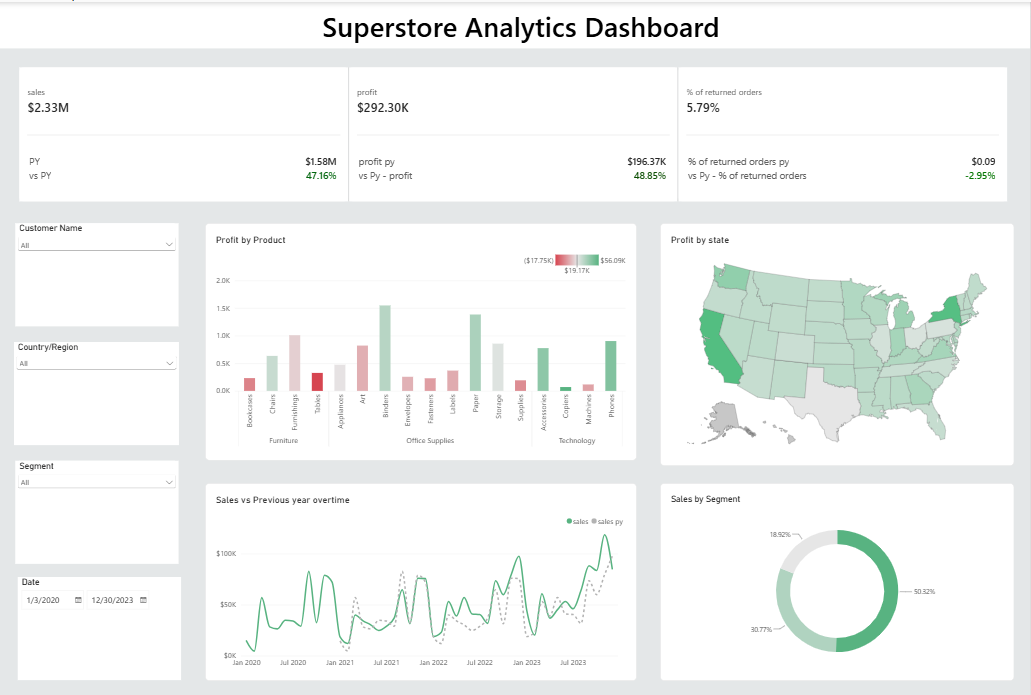

The dashboard page shown, as its layout file describes it:
{"tool":"powerbi","page":{"name":"Page 1","canvas":[2000,1350],"ordinal":0},"visuals":[{"type":"cardVisual","fields":{"Data":["key measures.sales","key measures.profit","key measures.% of returned orders"]},"box":[20,120,1956.7,280],"z":0},{"type":"shape","box":[0,0,2000,90],"z":1000},{"type":"lineChart","title":"Sales vs Previous year overtime ","fields":{"Category":["Date table.start of month"],"Y":["key measures.sales","key measures.sales py"]},"box":[400,933.3,836.7,383.3],"z":2000,"group":"g1"},{"type":"columnChart","title":"Profit by Product","fields":{"Category":["Orders.Category","Orders.Sub-Category"],"Y":["CountNonNull(Orders.Profit)"]},"box":[400,430,836.7,460],"z":3000,"group":"g1"},{"type":"shapeMap","title":"Profit by state","fields":{"Category":["Orders.State/Province"],"Value":["key measures.profit"]},"box":[1283.3,430,686.7,470],"z":4000,"group":"g1"},{"type":"donutChart","title":"Sales by Segment","fields":{"Category":["Orders.Segment"],"Y":["key measures.sales"]},"box":[1283.3,933.3,686.7,383.3],"z":5000,"group":"g1"},{"type":"slicer","fields":{"Values":["Orders.Customer Name"]},"box":[33.3,430,316.7,200],"z":5500,"group":"g1"},{"type":"slicer","fields":{"Values":["Orders.Segment"]},"box":[33.3,890,316.7,200],"z":6000,"group":"g1"},{"type":"slicer","fields":{"Values":["Date table.Date"]},"box":[36.7,1116.7,316.7,200],"z":6500,"group":"g1"},{"type":"slicer","fields":{"Values":["Orders.Country/Region"]},"box":[30,660,320,200],"z":7000,"group":"g1"},{"type":"group","id":"g1","title":"Group 1","box":[30,430,1940,886.7],"z":7001}]}

Visuals, with their boxes in screenshot pixels (x1, y1, x2, y2), scaled from the page's 2000x1350 canvas onto the 1031x695 screenshot:
cardVisual - key measures.sales x key measures.profit: Rect(10, 62, 1019, 206)
shape: Rect(0, 0, 1030, 46)
"Sales vs Previous year overtime " lineChart: Rect(206, 480, 638, 678)
"Profit by Product" columnChart: Rect(206, 221, 638, 458)
"Profit by state" shapeMap: Rect(662, 221, 1016, 463)
"Sales by Segment" donutChart: Rect(662, 480, 1016, 678)
slicer - Orders.Customer Name: Rect(17, 221, 180, 324)
slicer - Orders.Segment: Rect(17, 458, 180, 561)
slicer - Date table.Date: Rect(19, 575, 182, 678)
slicer - Orders.Country/Region: Rect(15, 340, 180, 443)
"Group 1" group: Rect(15, 221, 1016, 678)
